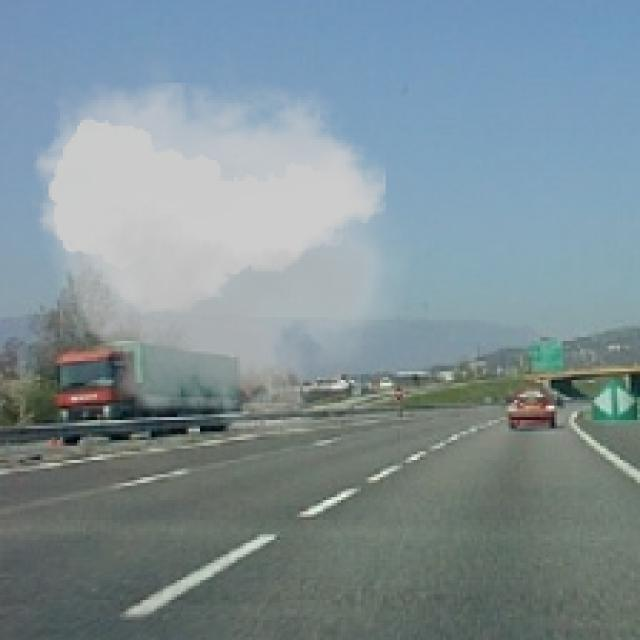smoke: (23, 52, 411, 457)
